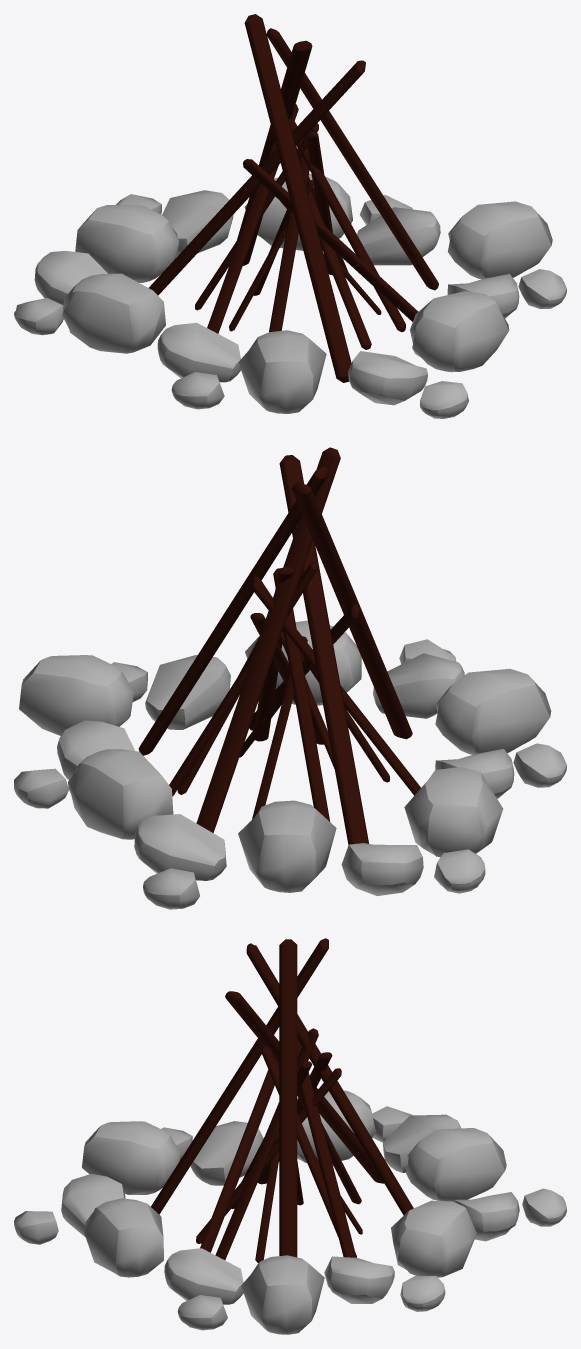
File: FogataMS.fbx
The picture shows the model from 3 angles, top to bottom: view 1: azimuth 30°, elevation 25°; view 2: azimuth 150°, elevation 25°; view 3: azimuth 270°, elevation 25°; orthographic projection. The views are drawn at different scales.
Visible parts, largest first — view 1: Box004; view 2: Box004; view 3: Box004.
Part boxes in pixels (left/top/right/bottom): Box004: left=14, top=14, right=566, bottom=418; Box004: left=14, top=447, right=566, bottom=909; Box004: left=14, top=938, right=566, bottom=1334.
Bounding box in the file's own units: 15.54 × 9.43 × 16.61.
